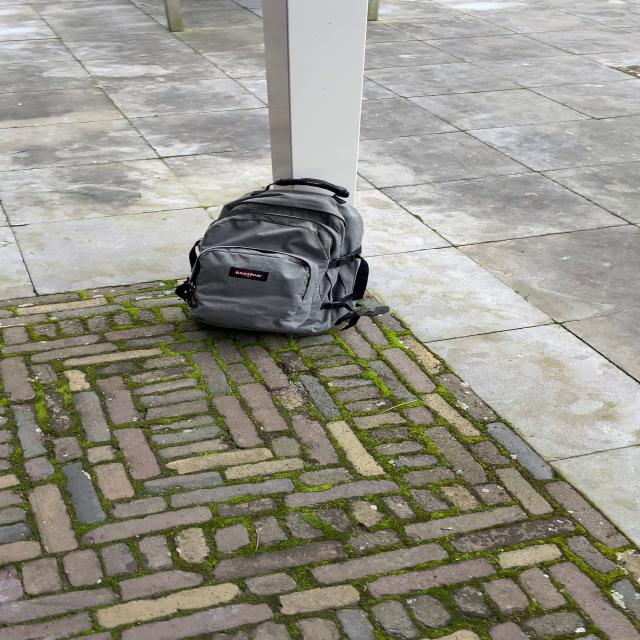backpack: (172, 174, 381, 342)
